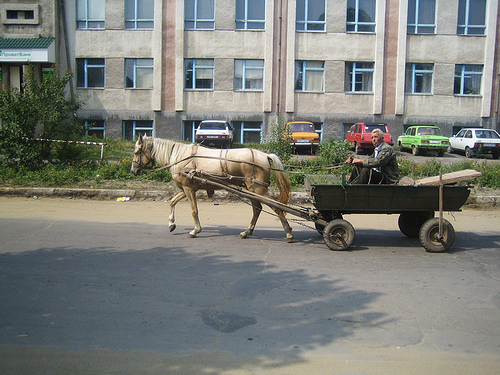horse: (130, 134, 295, 243)
